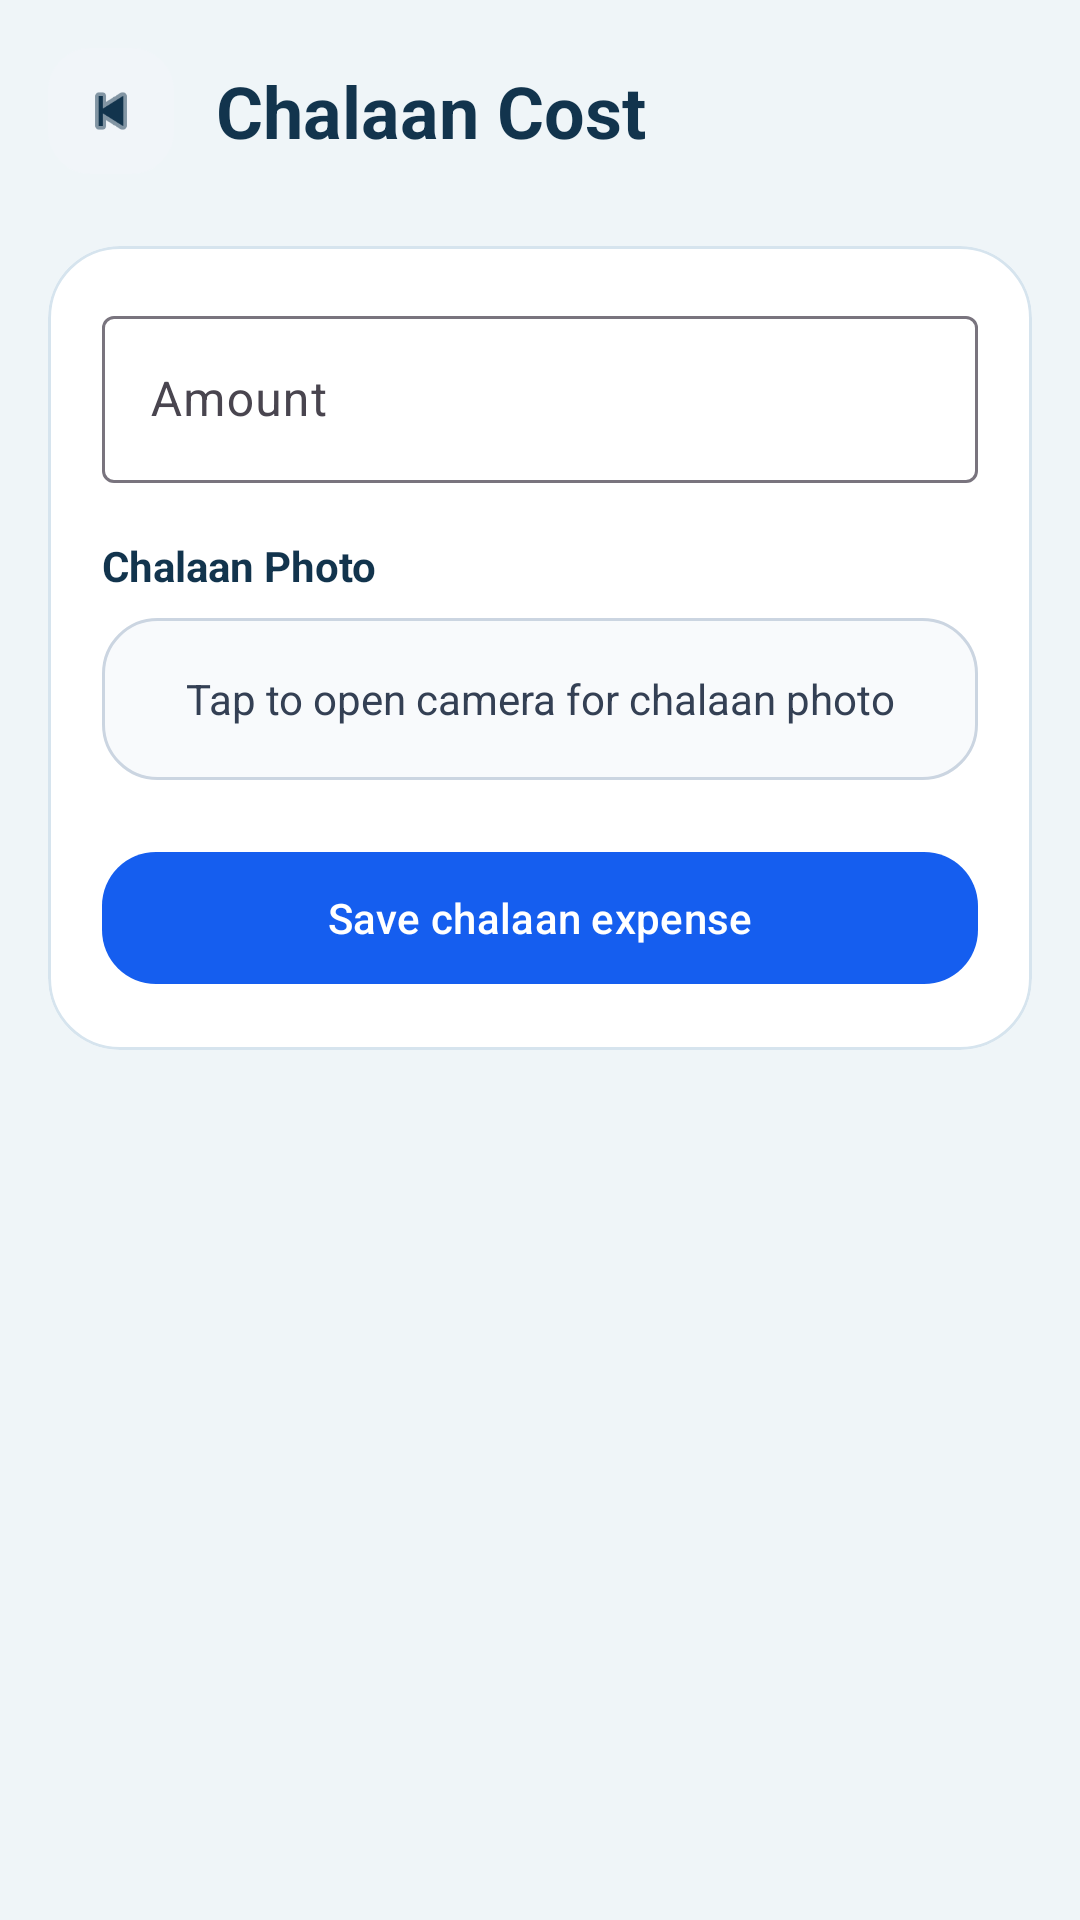

Icons on this 1080px×1920px Android screen, each with its box as bbox=[x1, y1, x2, y2]:
Back: bbox=[95, 92, 127, 130]
